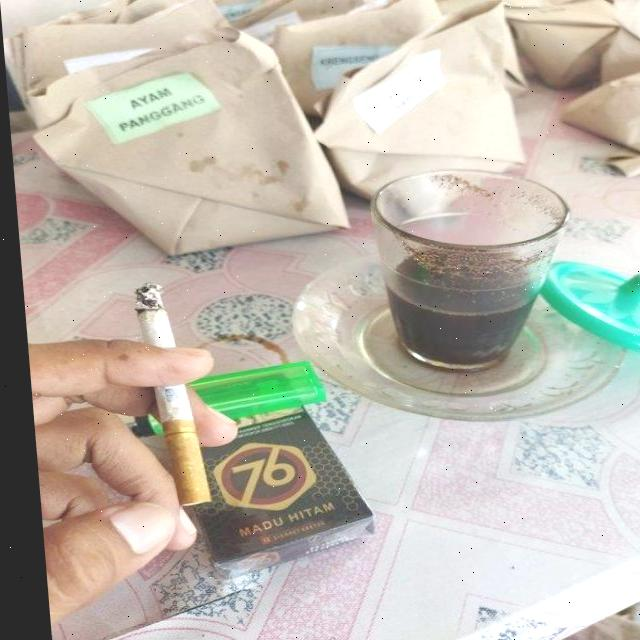cigarette: (126, 281, 204, 505)
